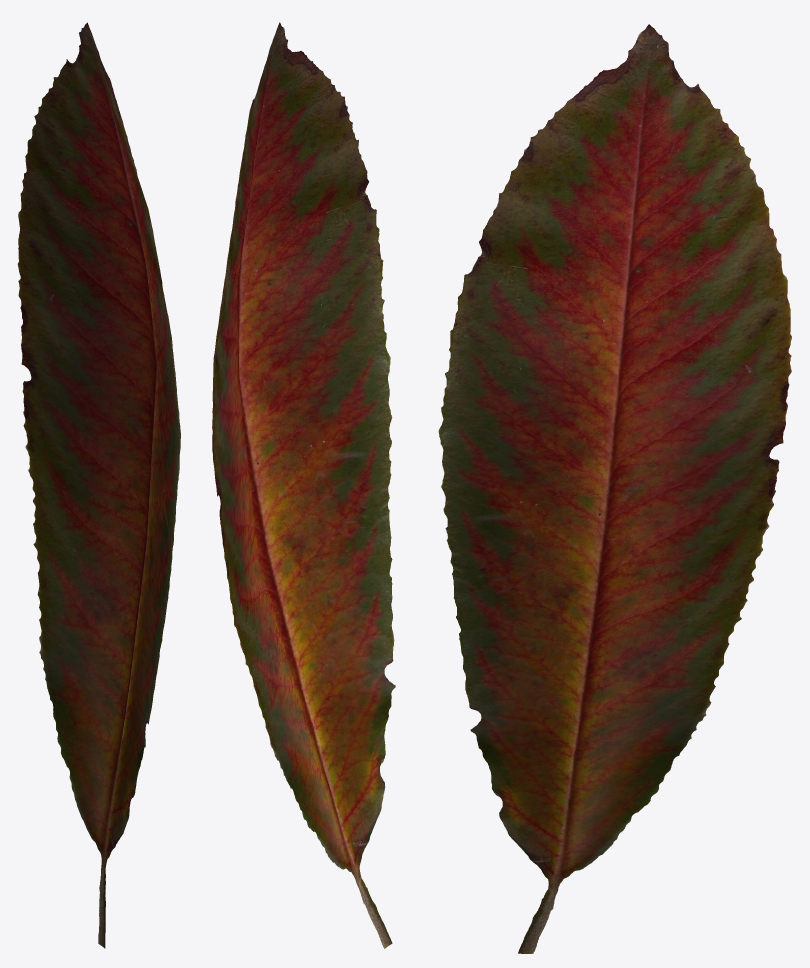
File: LEAF3.fbx
The picture shows the model from 3 angles, left to right: view 1: azimuth 30°, elevation 25°; view 2: azimuth 150°, elevation 25°; view 3: azimuth 270°, elevation 25°; orthographic projection. The views are drawn at different scales.
Parts seen in each view (by area): view 1: FALL29.001; view 2: FALL29.001; view 3: FALL29.001.
Part boxes in pixels (x1=…): FALL29.001: x1=17, y1=22, x2=180, y2=948; FALL29.001: x1=212, y1=22, x2=395, y2=948; FALL29.001: x1=438, y1=24, x2=791, y2=953.
Size of the model in its own units: 11.55 by 100 by 34.4.
